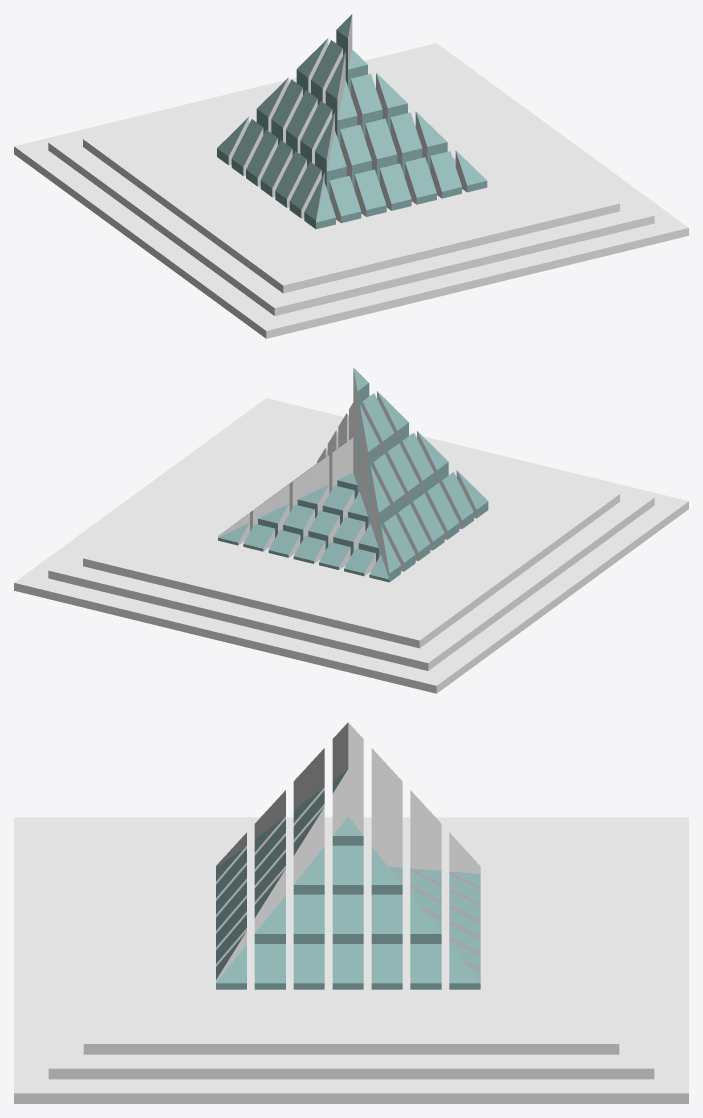
Rendered from pyramidscaled3.gltf.
3 renders of one model, top to bottom at view 1: azimuth 30°, elevation 25°; view 2: azimuth 150°, elevation 25°; view 3: azimuth 270°, elevation 25°, orthographic. The views are drawn at different scales.
Bounding box in the file's own units: 101 × 41.4 × 104.
